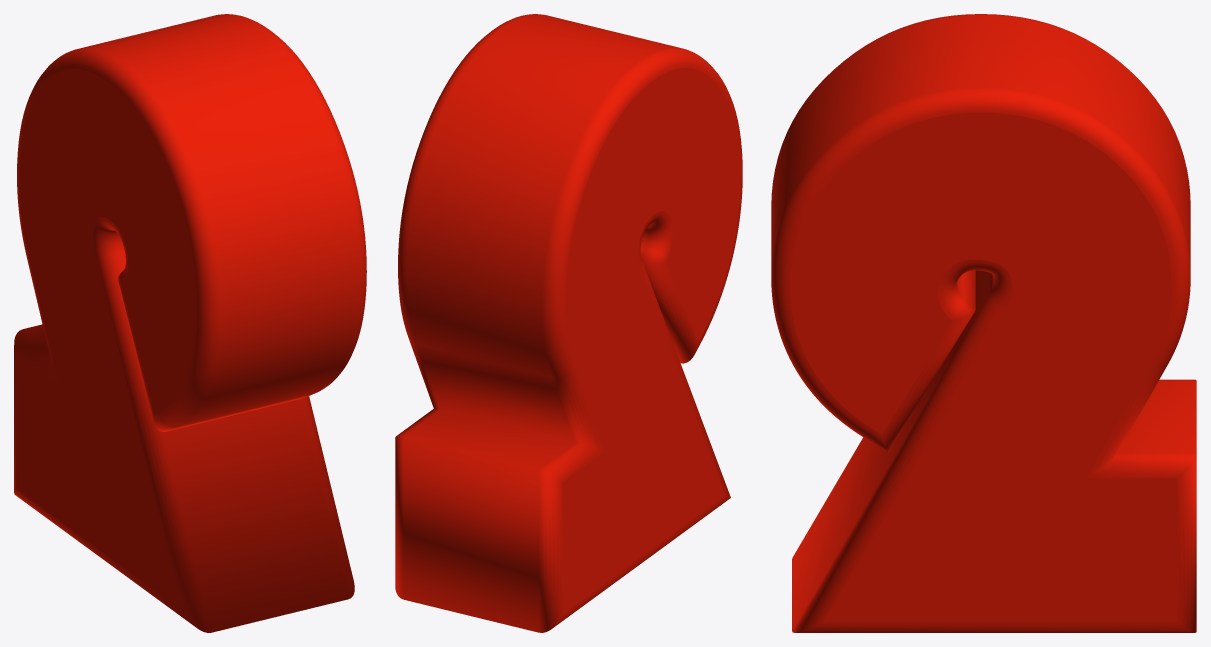
3 views of the same model, side by side, from view 1: azimuth 30°, elevation 25°; view 2: azimuth 150°, elevation 25°; view 3: azimuth 270°, elevation 25° (orthographic). The views are drawn at different scales.
Visible parts, largest first — view 1: Text; view 2: Text; view 3: Text.
Part boxes in pixels (x1,y1,x2,y2): Text: [14, 14, 366, 632]; Text: [395, 14, 742, 632]; Text: [771, 14, 1196, 632].
Bounding box in the file's own units: 22 × 63.46 × 45.01.
